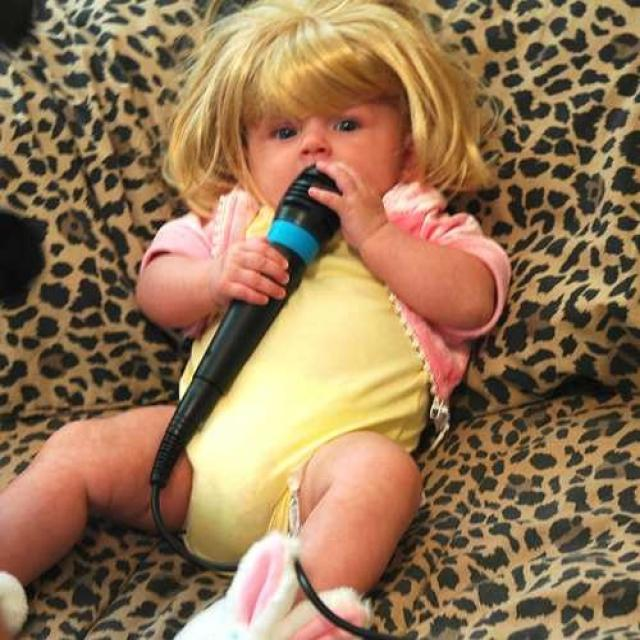microphone: (151, 165, 350, 483)
